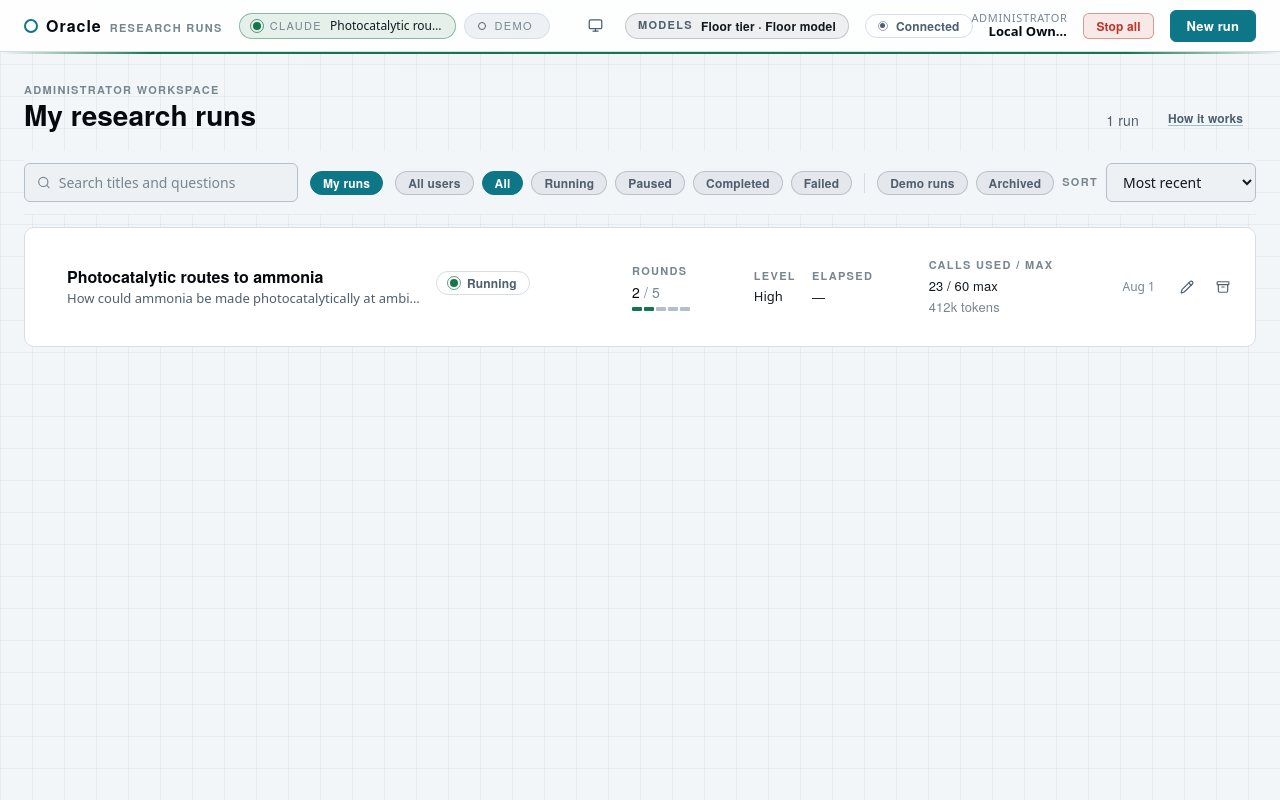
Test: model indicator — the system default › opens a table covering every step, with the escalations spelled out
Step 1. Click the button "Models Floor tier · Floor model" → (737, 26), box [625, 12, 849, 38]
(page scrolled)
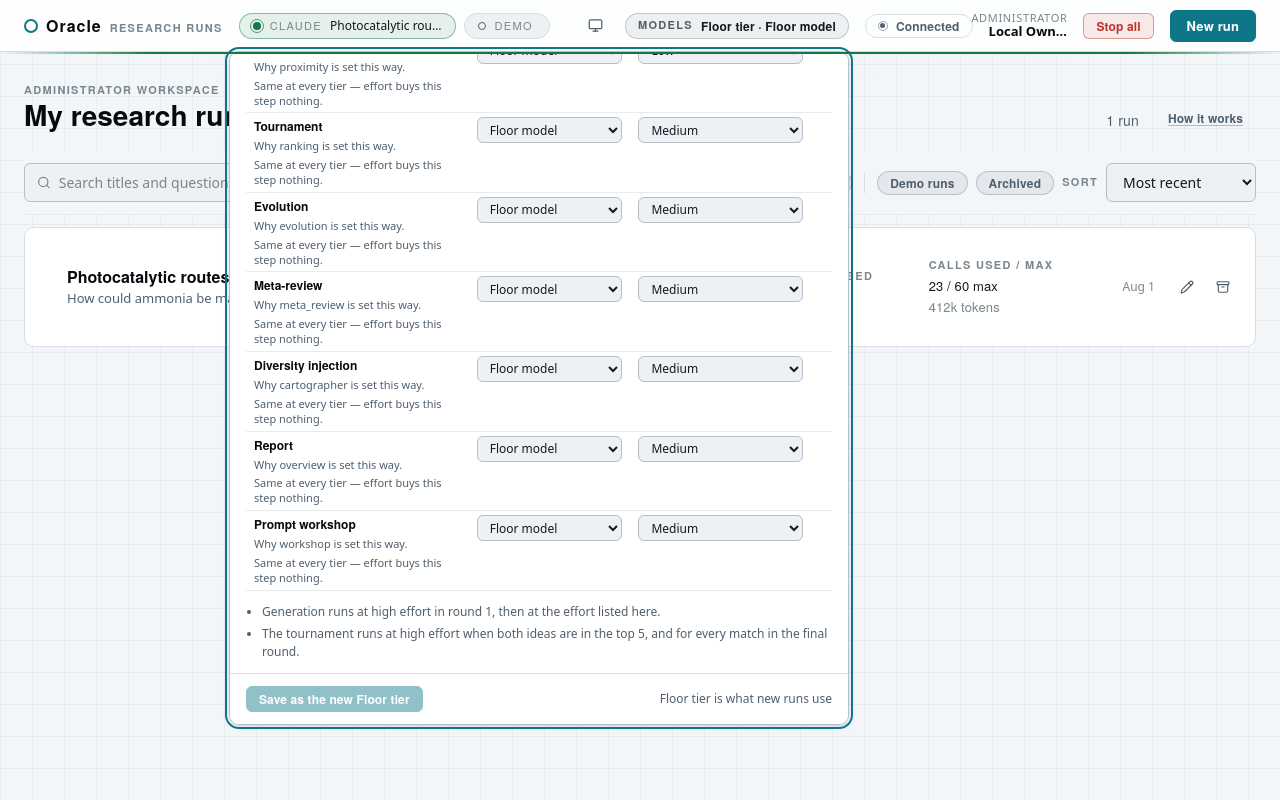
Check: the list item "high effort in round 1" is shown, box [262, 603, 660, 620]
Check: the list item "top 5" is shown, box [262, 625, 827, 660]
